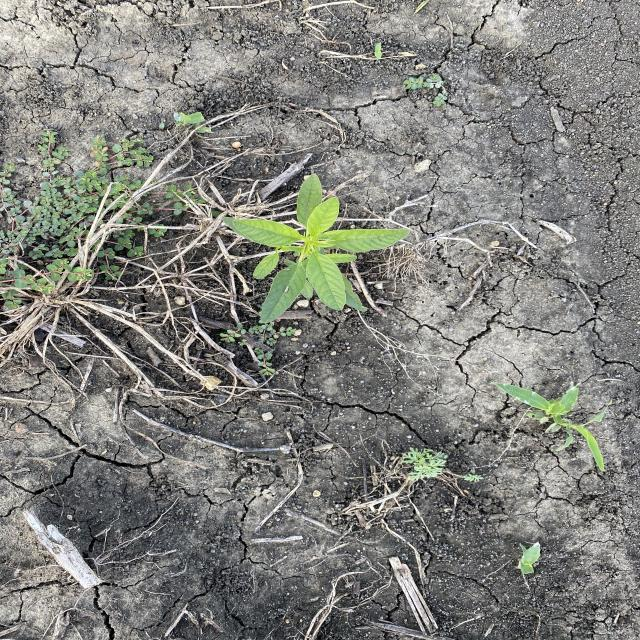Ragweed: (394, 443, 452, 485)
SpottedSpurge: (2, 123, 214, 322), (400, 72, 452, 108)
Waterhemp: (220, 168, 416, 326)
